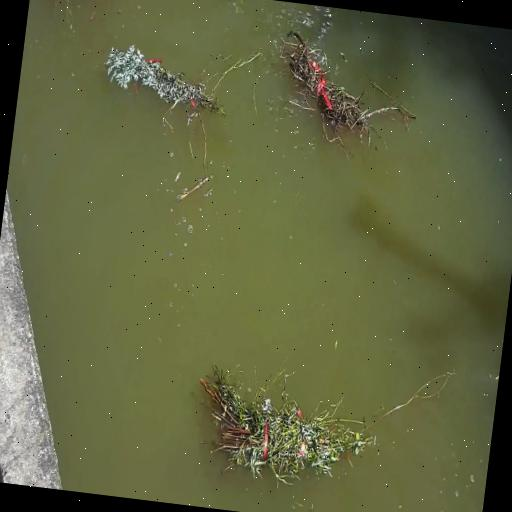twig: (187, 358, 380, 488), (279, 48, 396, 148), (102, 36, 208, 119), (38, 0, 107, 13)
